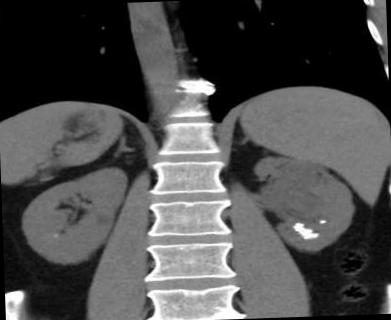Tas_Var: (316, 218, 329, 225), (292, 222, 307, 228), (300, 235, 312, 241), (310, 231, 320, 238), (303, 227, 313, 232), (292, 228, 302, 232), (300, 232, 310, 236)
